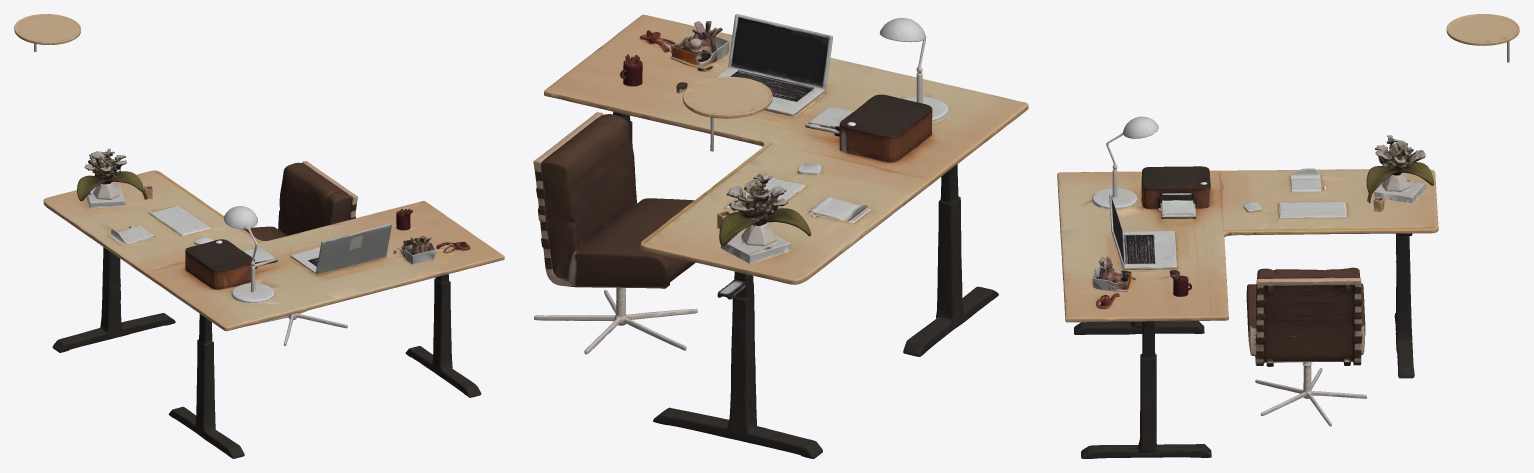
File: officedepot-com-a-products-8090499-flexispot-e7l-76w-l-shape-05b479.glb
3 renders of one model, left to right at view 1: azimuth 30°, elevation 25°; view 2: azimuth 150°, elevation 25°; view 3: azimuth 270°, elevation 25°, orthographic. The views are drawn at different scales.
Parts seen in each view (by area): view 1: tripo_node_afdfdfe2-3c88-4078-a073-5e34211a5d66; view 2: tripo_node_afdfdfe2-3c88-4078-a073-5e34211a5d66; view 3: tripo_node_afdfdfe2-3c88-4078-a073-5e34211a5d66.
Part boxes in pixels (x1,y1,x2,y2): tripo_node_afdfdfe2-3c88-4078-a073-5e34211a5d66: (14, 14, 504, 458); tripo_node_afdfdfe2-3c88-4078-a073-5e34211a5d66: (533, 14, 1028, 458); tripo_node_afdfdfe2-3c88-4078-a073-5e34211a5d66: (1057, 14, 1519, 458).
Size of the model in its own units: 0.7696 by 0.7297 by 1.
1 material, 1 textured.
